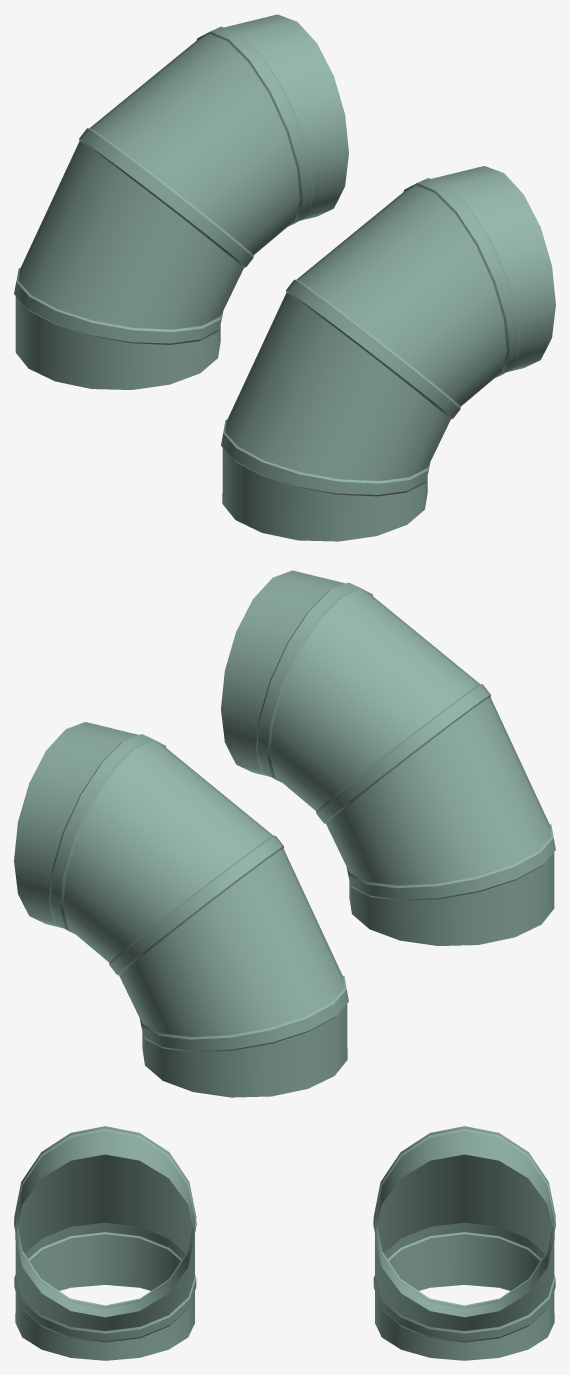
Rendered from PipeComplexLarge_B_11.fbx.
3 views of the same model, one above another, from view 1: azimuth 30°, elevation 25°; view 2: azimuth 150°, elevation 25°; view 3: azimuth 270°, elevation 25° (orthographic). The views are drawn at different scales.
Parts seen in each view (by area): view 1: PipeComplexLarge_B_11.001; view 2: PipeComplexLarge_B_11.001; view 3: PipeComplexLarge_B_11.001.
Boxes of the visible parts, box(x1,y1,x2,y2) form: PipeComplexLarge_B_11.001: box(14, 14, 555, 541); PipeComplexLarge_B_11.001: box(14, 570, 555, 1097); PipeComplexLarge_B_11.001: box(14, 1126, 555, 1360).
Size of the model in its own units: 0.3016 by 0.3016 by 0.6032.
